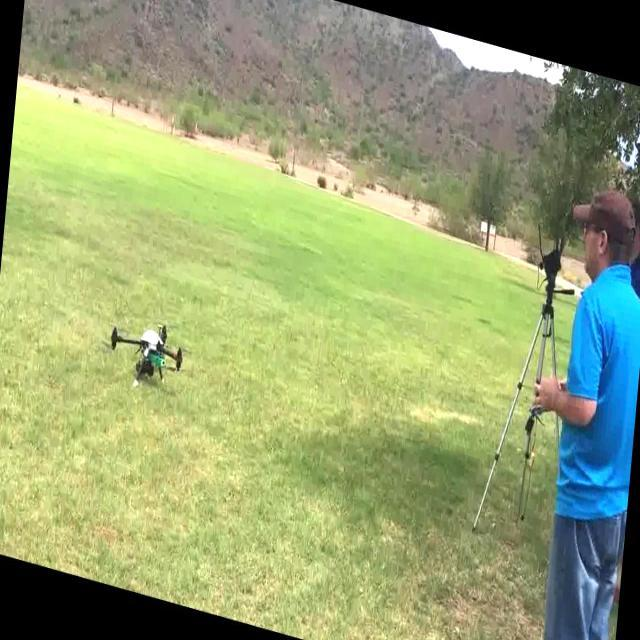drone: (106, 305, 196, 407)
